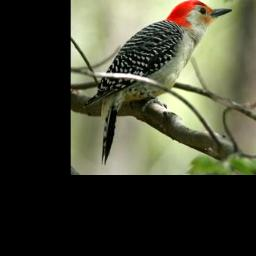Woodpecker: (86, 0, 232, 164)
